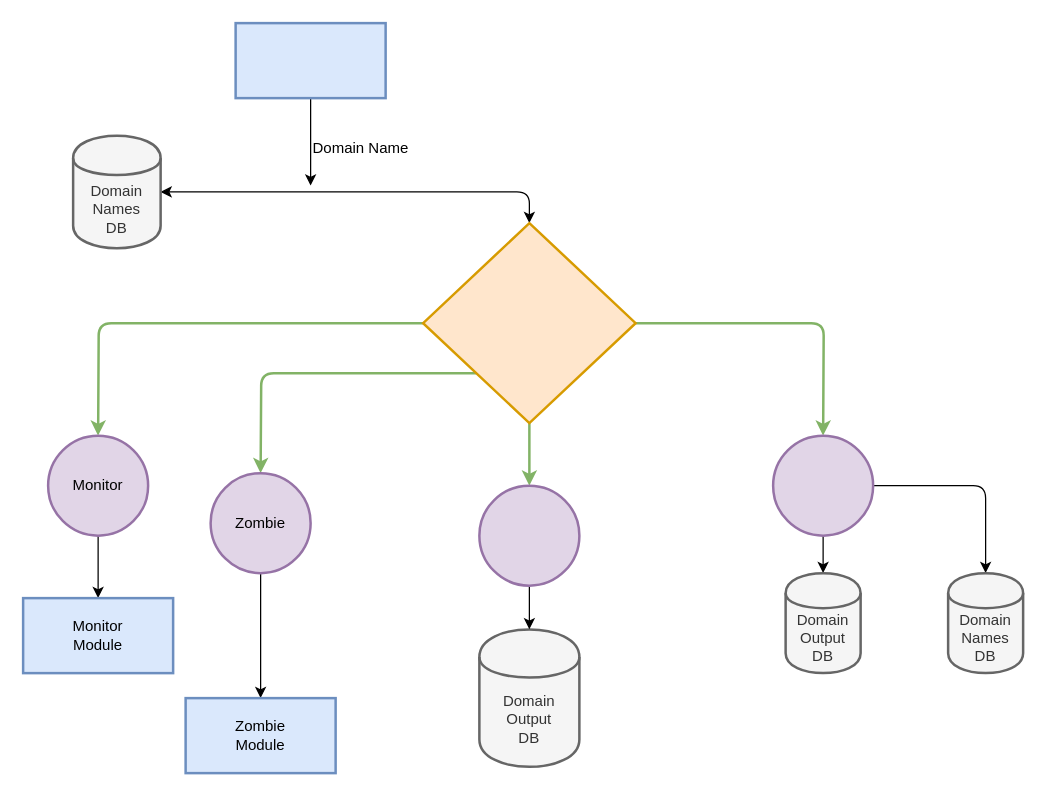
This 1045x795 diagram has some shape labels left out. The centre of each missing label's shape, as x and y in pixels:
"Domain Delete" belongs at (822,485).
"IF Args" belongs at (528,322).
"Recon Domain" belongs at (529,535).
"ReconBot" belongs at (310,60).
